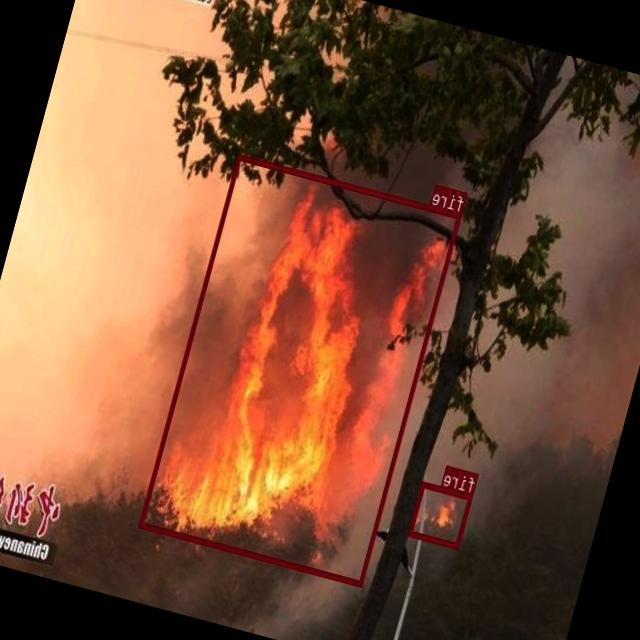fire: (139, 153, 462, 586), (408, 481, 474, 548)
